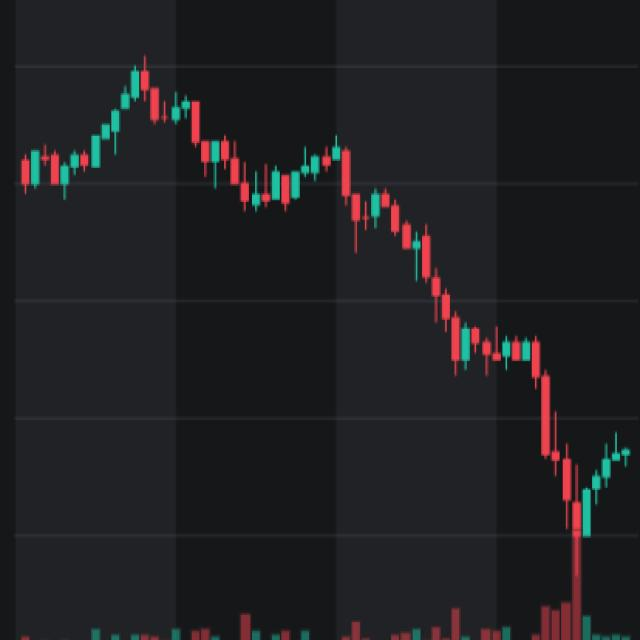Support-breakout: (45, 59, 584, 542)
